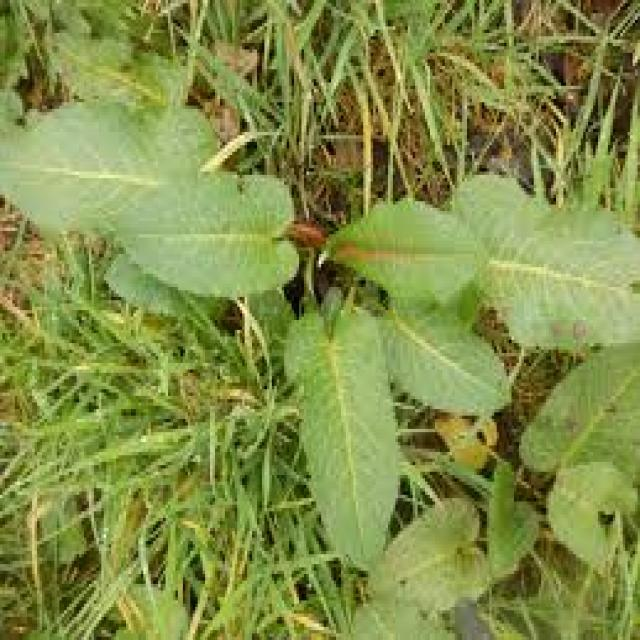organic waste: (37, 16, 638, 551)
